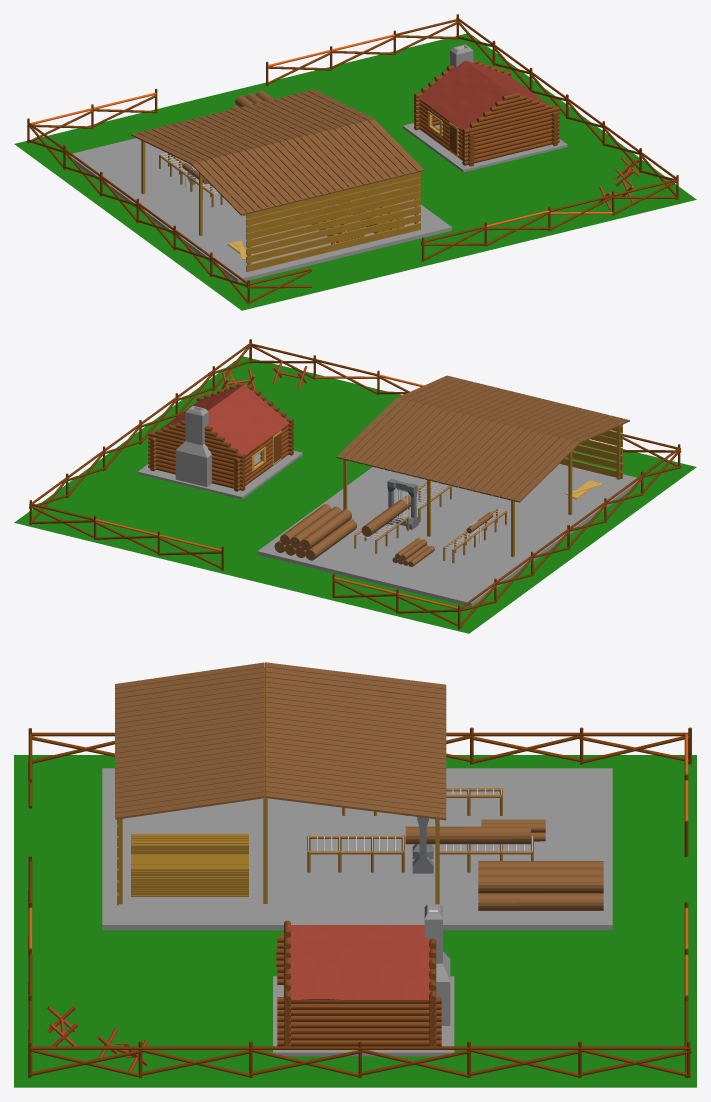
File: SawmillAge3.fbx
3 views of the same model, one above another, from view 1: azimuth 30°, elevation 25°; view 2: azimuth 150°, elevation 25°; view 3: azimuth 270°, elevation 25° (orthographic). The views are drawn at different scales.
Visible parts, largest first — view 1: Plane.029, Cube.516, Cube.498, Cube.496, Cube.356, Cube.357, Cube.354, Cube.358, Cube.359, Cube.352, Cube.355, Cube.353 (+29 smaller); view 2: Plane.029, Cube.516, Cube.498, Cube.497, Cube.496, Cube, Cylinder.448, Cylinder.538, Cylinder.489, Cube.366, Cube.360, Cube.374 (+27 smaller); view 3: Plane.029, Cube.516, Cube.499, Cylinder.450, Cylinder.451, Cylinder.538, Cube.496, Cube.497, Cube.412, Cube.364, Cylinder.682, Cylinder.683 (+62 smaller).
Boxes of the visible parts, x1,y1,x2,y2 form: Plane.029: [14, 33, 696, 310]; Cube.516: [68, 138, 451, 282]; Cube.498: [418, 60, 510, 130]; Cube.496: [402, 123, 567, 172]; Cube.356: [246, 198, 420, 247]; Cube.357: [246, 206, 420, 255]; Cube.354: [246, 184, 420, 233]; Cube.358: [246, 214, 420, 263]; Cube.359: [246, 223, 420, 271]; Cube.352: [246, 177, 420, 225]; Cube.355: [246, 191, 420, 239]; Cube.353: [246, 172, 420, 218]; Plane.029: [14, 356, 696, 633]; Cube.516: [257, 464, 640, 606]; Cube.498: [207, 384, 289, 455]; Cube.497: [175, 406, 212, 486]; Cube.496: [138, 450, 302, 499]; Cube: [387, 478, 418, 529]; Cylinder.448: [300, 509, 351, 550]; Cylinder.538: [361, 495, 410, 536]; Cylinder.489: [305, 519, 356, 560]; Cube.366: [493, 436, 559, 497]; Cube.360: [513, 441, 579, 502]; Cube.374: [465, 429, 531, 490]; Plane.029: [14, 755, 696, 1087]; Cube.516: [102, 768, 612, 930]; Cube.499: [288, 925, 431, 1000]; Cylinder.450: [478, 876, 603, 893]; Cylinder.451: [478, 893, 603, 910]; Cylinder.538: [405, 826, 530, 844]; Cube.496: [273, 976, 454, 1056]; Cube.497: [424, 904, 450, 1025]; Cube.412: [265, 791, 446, 820]; Cube.364: [265, 672, 446, 699]; Cylinder.682: [277, 1022, 441, 1028]; Cylinder.683: [277, 1028, 441, 1034].
Size of the model in its own units: 1087 by 183 by 942.
